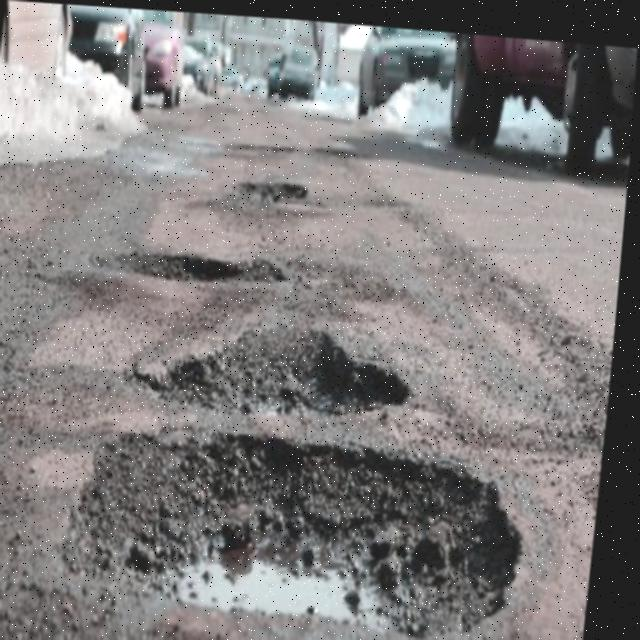Pothole: (53, 374, 594, 640), (155, 292, 465, 422), (85, 193, 347, 326), (201, 162, 372, 256)
